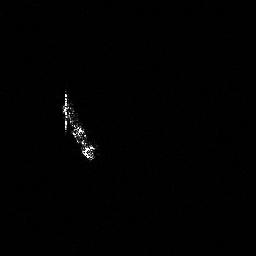ship: (57, 85, 102, 165)
